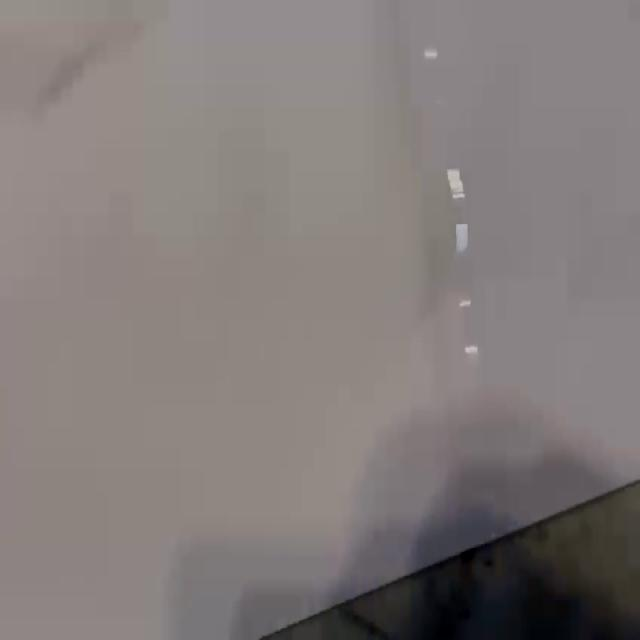road: (0, 1, 640, 638)
